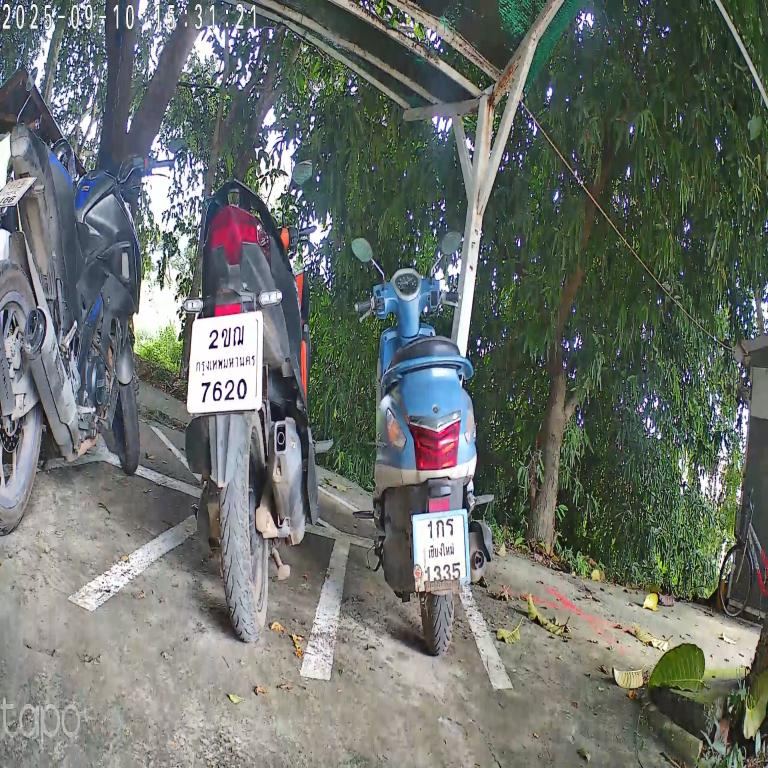license plate: (181, 300, 269, 424), (405, 494, 477, 601)
